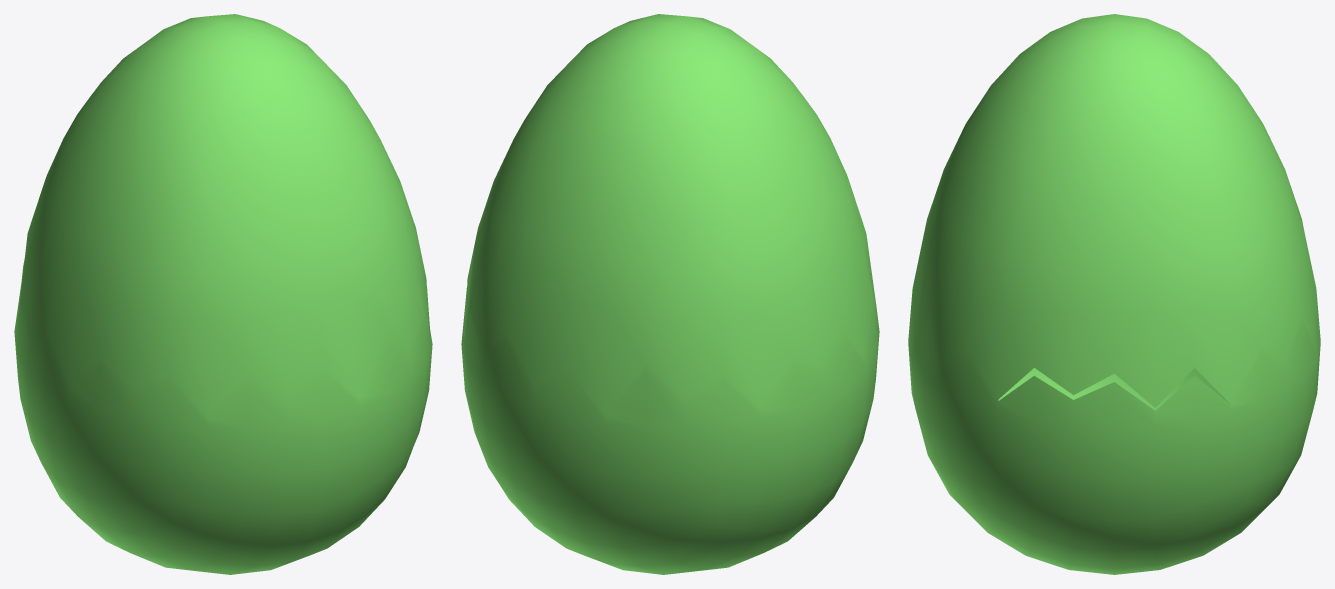
File: Eggshell 2.fbx
3 views of the same model, side by side, from view 1: azimuth 30°, elevation 25°; view 2: azimuth 150°, elevation 25°; view 3: azimuth 270°, elevation 25° (orthographic).
Visible parts, largest first — view 1: Jaje 3; view 2: Jaje 3; view 3: Jaje 3.
Boxes of the visible parts, x1,y1,x2,y2 form: Jaje 3: (14, 14, 432, 574); Jaje 3: (461, 14, 879, 574); Jaje 3: (908, 14, 1320, 574).
Bounding box in the file's own units: 256 × 362 × 256.
